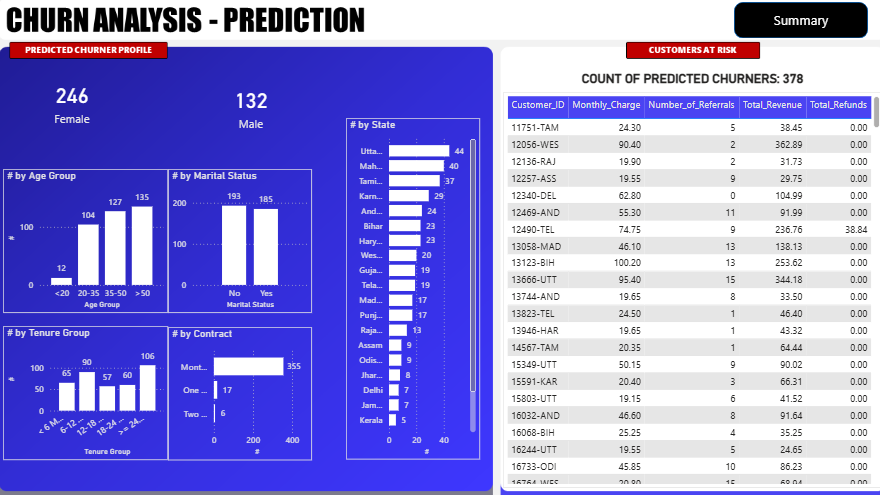

What the dashboard file says about the page in this screenshot:
{"tool":"powerbi","page":{"name":"Churn Prediction","canvas":[1280,720],"ordinal":2},"visuals":[{"type":"tableEx","fields":{"Values":["Predict_churn_status.Customer_ID","Predict_churn_status.Monthly_Charge","Predict_churn_status.Number_of_Referrals","Predict_churn_status.Total_Revenue","Predict_churn_status.Total_Refunds"]},"box":[727.1,140,540,561.4],"z":0},{"type":"card","fields":{"Values":["tbl_Measures.Title Predicted Churner"]},"box":[800,88.6,392.9,67.1],"z":1},{"type":"card","fields":{"Values":["tbl_Measures.Count Predicted Churner"]},"box":[28.6,74.3,175.7,161.4],"z":2},{"type":"card","fields":{"Values":["tbl_Measures.Count Predicted Churner"]},"box":[281.4,88.6,175.7,147.1],"z":3},{"type":"clusteredColumnChart","fields":{"Category":["Mapping_AgeGrp.Age Group"],"Y":["CountNonNull(Predict_churn_status.Customer_ID)"]},"box":[18.6,250,234.3,204.3],"z":4},{"type":"clusteredColumnChart","fields":{"Y":["CountNonNull(Predict_churn_status.Customer_ID)"],"Category":["Predict_churn_status.Married"]},"box":[252.9,250,204.3,204.3],"z":5},{"type":"clusteredColumnChart","fields":{"Y":["CountNonNull(Predict_churn_status.Customer_ID)"],"Category":["Mapping_TenureGroup.Tenure Group"]},"box":[18.6,471.4,234.3,190],"z":6},{"type":"clusteredBarChart","fields":{"Category":["Predict_churn_status.Contract"],"Y":["CountNonNull(Predict_churn_status.Customer_ID)"]},"box":[252.9,472.9,204.3,188.6],"z":7},{"type":"clusteredBarChart","fields":{"Category":["Predict_churn_status.State"],"Y":["CountNonNull(Predict_churn_status.Customer_ID)"]},"box":[504.3,177.1,190,484.3],"z":8},{"type":"shape","box":[1054.3,12.9,190,51.4],"z":9}]}

Visuals, with their boxes in screenshot pixels (x1, y1, x2, y2), scaled from the page's 1280x720 canvas onto the 880x495 screenshot:
tableEx - Predict_churn_status.Customer_ID x Predict_churn_status.Monthly_Charge: 500 96 871 482
card - tbl_Measures.Title Predicted Churner: 550 61 820 107
card - tbl_Measures.Count Predicted Churner: 20 51 140 162
card - tbl_Measures.Count Predicted Churner: 193 61 314 162
clusteredColumnChart - Mapping_AgeGrp.Age Group x CountNonNull(Predict_churn_status.Customer_ID): 13 172 174 312
clusteredColumnChart - CountNonNull(Predict_churn_status.Customer_ID) x Predict_churn_status.Married: 174 172 314 312
clusteredColumnChart - CountNonNull(Predict_churn_status.Customer_ID) x Mapping_TenureGroup.Tenure Group: 13 324 174 455
clusteredBarChart - Predict_churn_status.Contract x CountNonNull(Predict_churn_status.Customer_ID): 174 325 314 455
clusteredBarChart - Predict_churn_status.State x CountNonNull(Predict_churn_status.Customer_ID): 347 122 477 455
shape: 725 9 855 44
